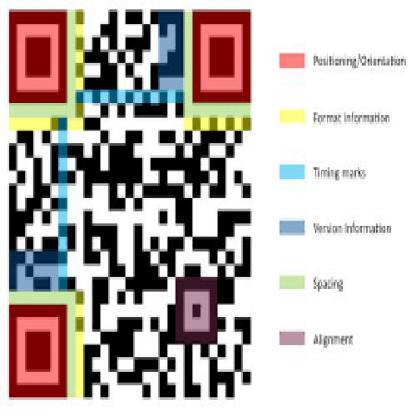qr_code: (9, 9, 250, 399)
